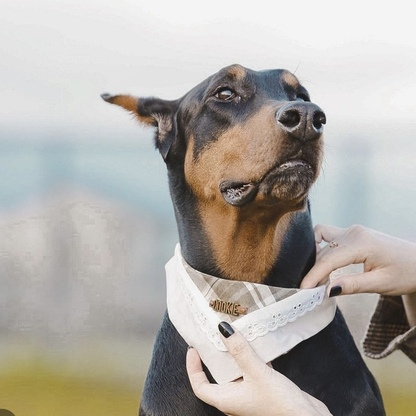doberman: (97, 64, 397, 412)
